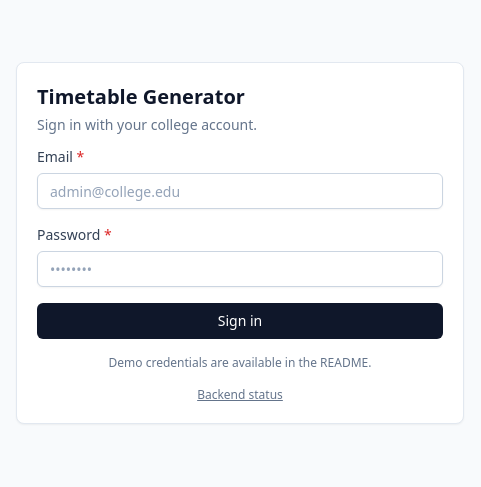
Test case: LoginPage › shows server error on invalid credentials
In the field with placeholder "admin@college.edu": coordinates (240, 191) [37, 173, 443, 209], type "a@x.edu"
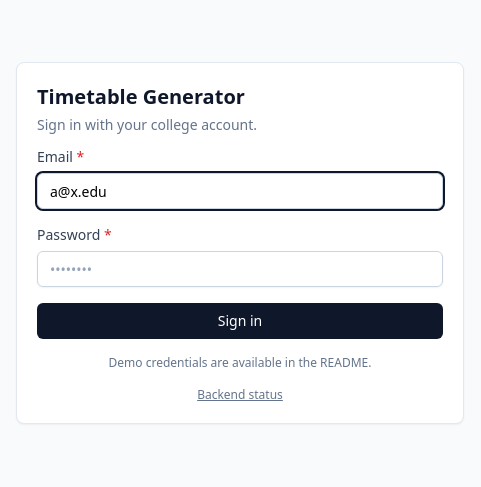
In the password field with placeholder "••••••••": coordinates (240, 269) [37, 251, 443, 287], type "wrong"
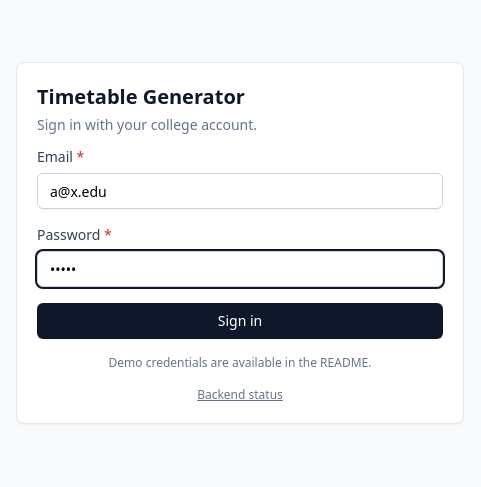
Click the button "Sign in": coordinates (240, 321) [37, 303, 443, 339]
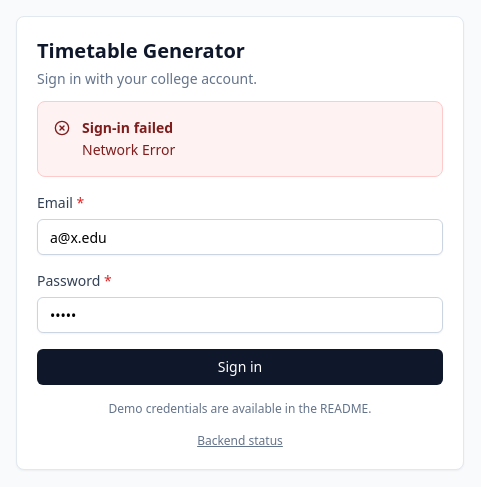
expect the text "Sign-in failed" is shown: met, box [82, 118, 175, 138]
